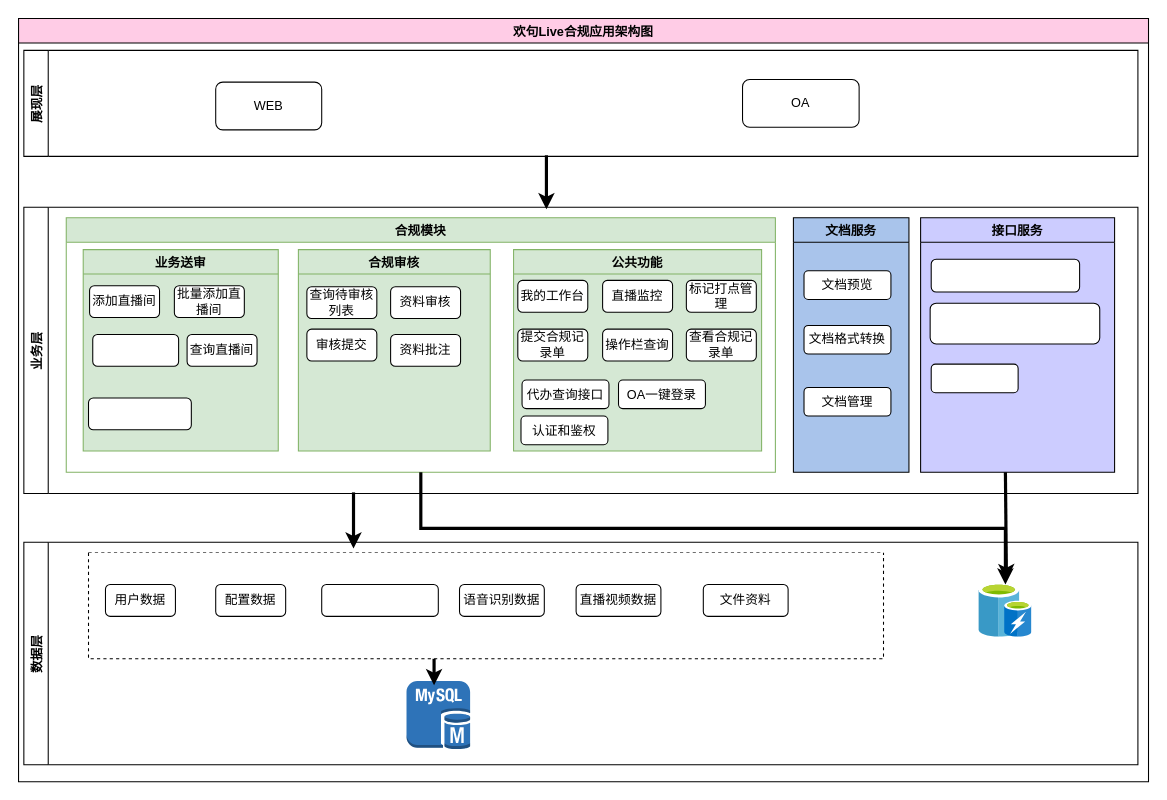
The diagram is 1167 pixels wide and 800 high, and some of its shapes have lost their labels. The centre of each missing label's shape, as x and y in pixels:
"redis" goes at (x=1004, y=610).
"从欢句云获取语音识别结果，保存并推送到Redis消息通道" goes at (x=1014, y=323).
"保存直播监控视频" goes at (x=974, y=378).
"修改直播间资料" goes at (x=139, y=413).
"同步直播间数据到欢句云" goes at (x=1005, y=275).
"我的直播数据" goes at (x=135, y=349).
"直播间申请单数据" goes at (x=379, y=600).
